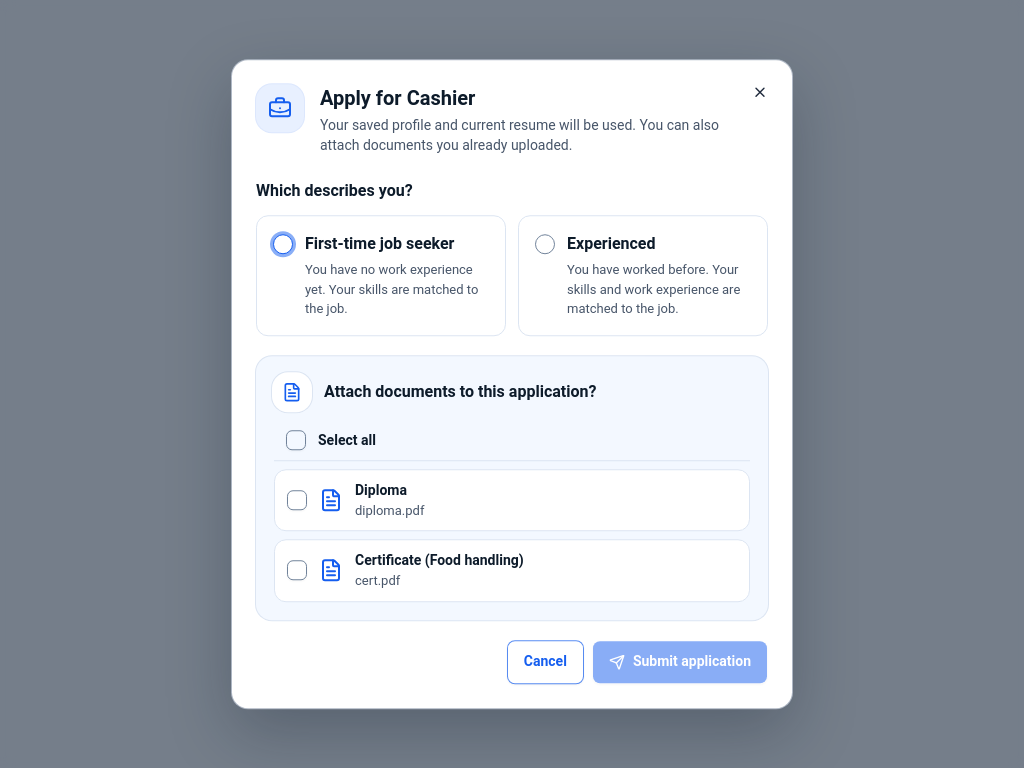
ApplyDialog › TC-29: Submit application stays disabled until a type is chosen
Expected: the button "Submit application" is disabled, [592,640,768,684]
Click the radio button named "Experienced" next to "Experienced". click: (545, 244)
box: [535,234,555,254]
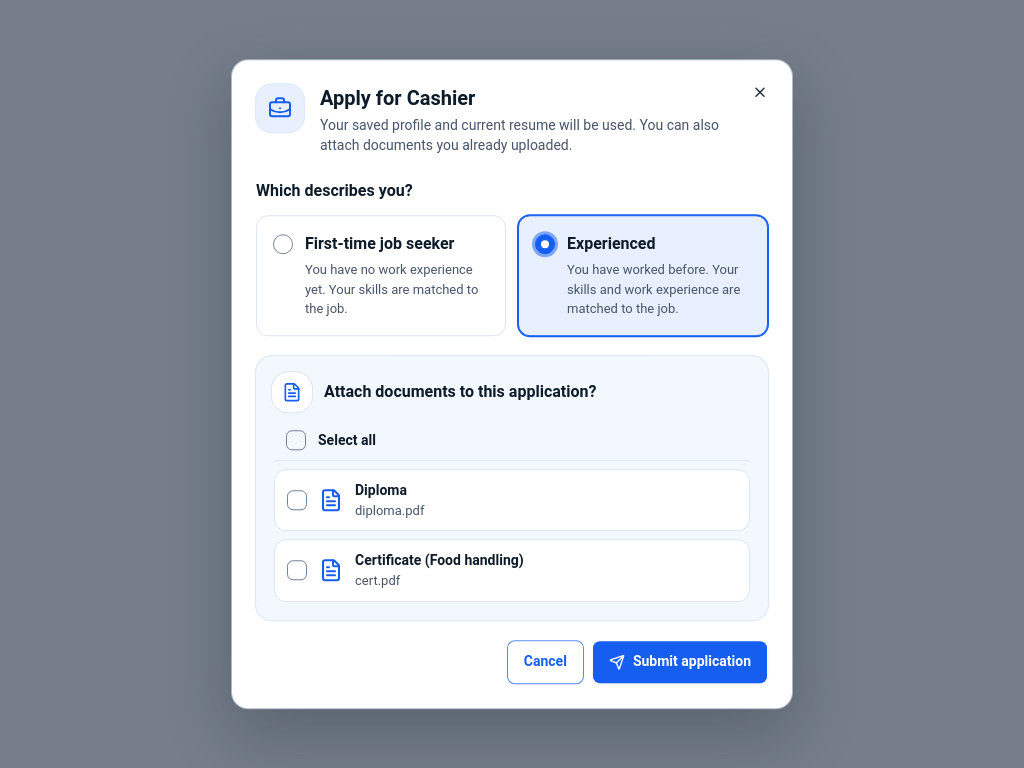
Expected: the button "Submit application" is enabled, [592,640,768,684]
